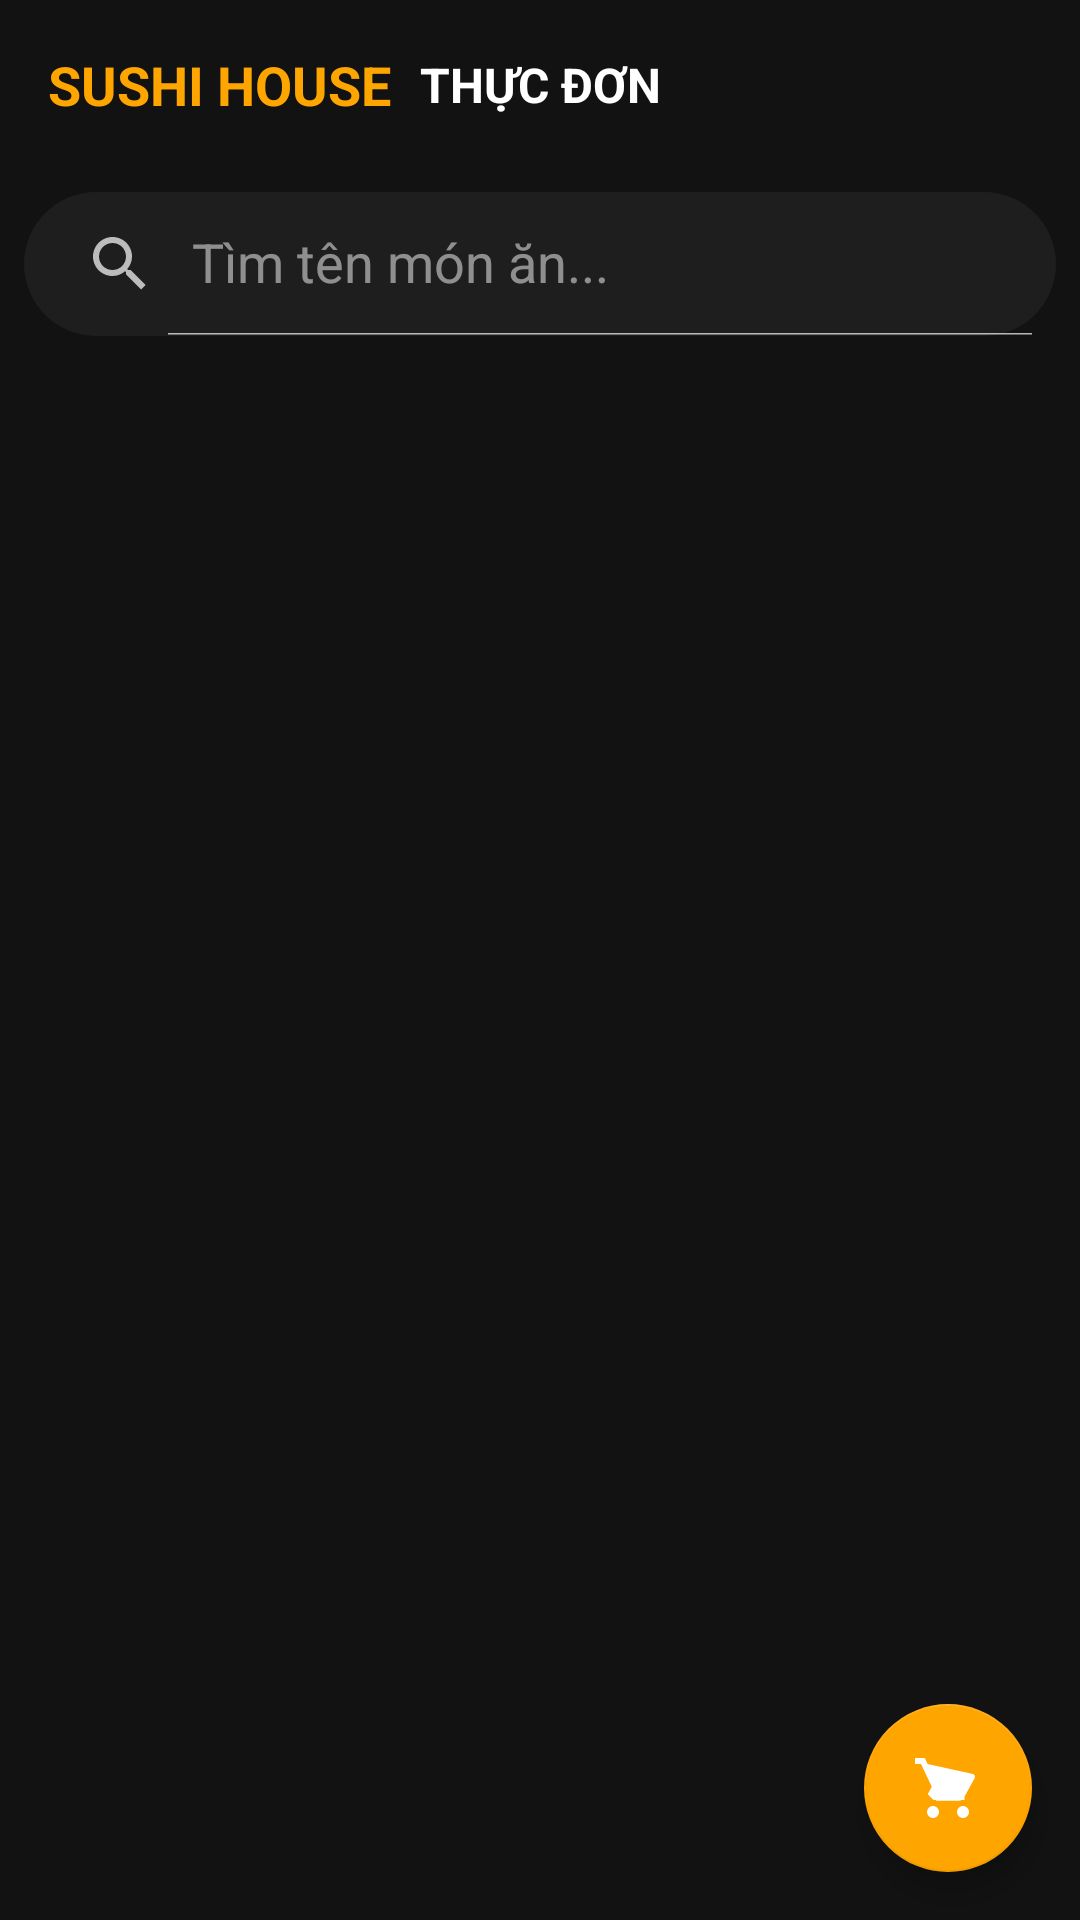

Screen size 1080×1920. Icon name, then its box in pixels as BBox(x1, y1, x2, y2):
Giỏ hàng: BBox(864, 1704, 1032, 1872)
